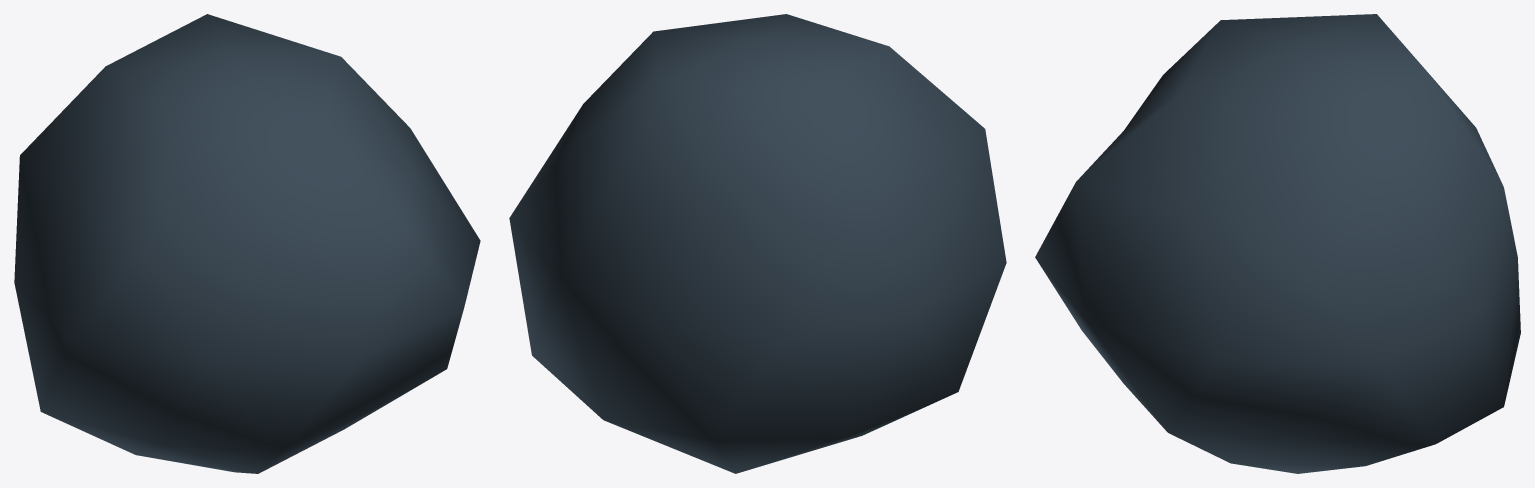
The model's file is Catapult_Normal.fbx.
3 views of the same model, side by side, from view 1: azimuth 30°, elevation 25°; view 2: azimuth 150°, elevation 25°; view 3: azimuth 270°, elevation 25° (orthographic). The views are drawn at different scales.
Visible parts, largest first — view 1: Boulder; view 2: Boulder; view 3: Boulder.
Part boxes in pixels (box(x1,y1,x2,y2)): Boulder: box(14, 14, 480, 473); Boulder: box(509, 14, 1006, 473); Boulder: box(1035, 14, 1520, 473).
Size of the model in its own units: 107 by 101 by 106.
